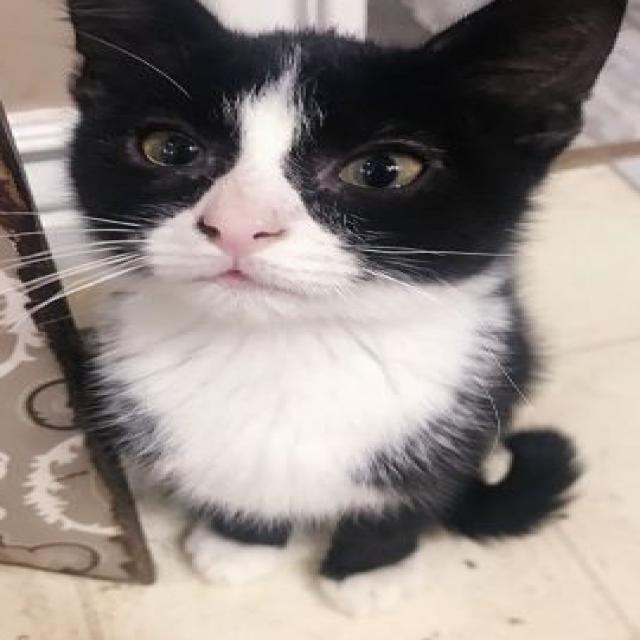Tuxedo: (47, 0, 633, 623)
